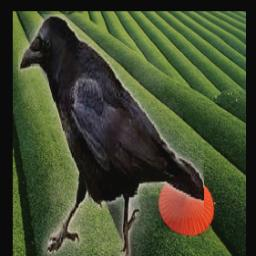Crow: (18, 15, 204, 256)
